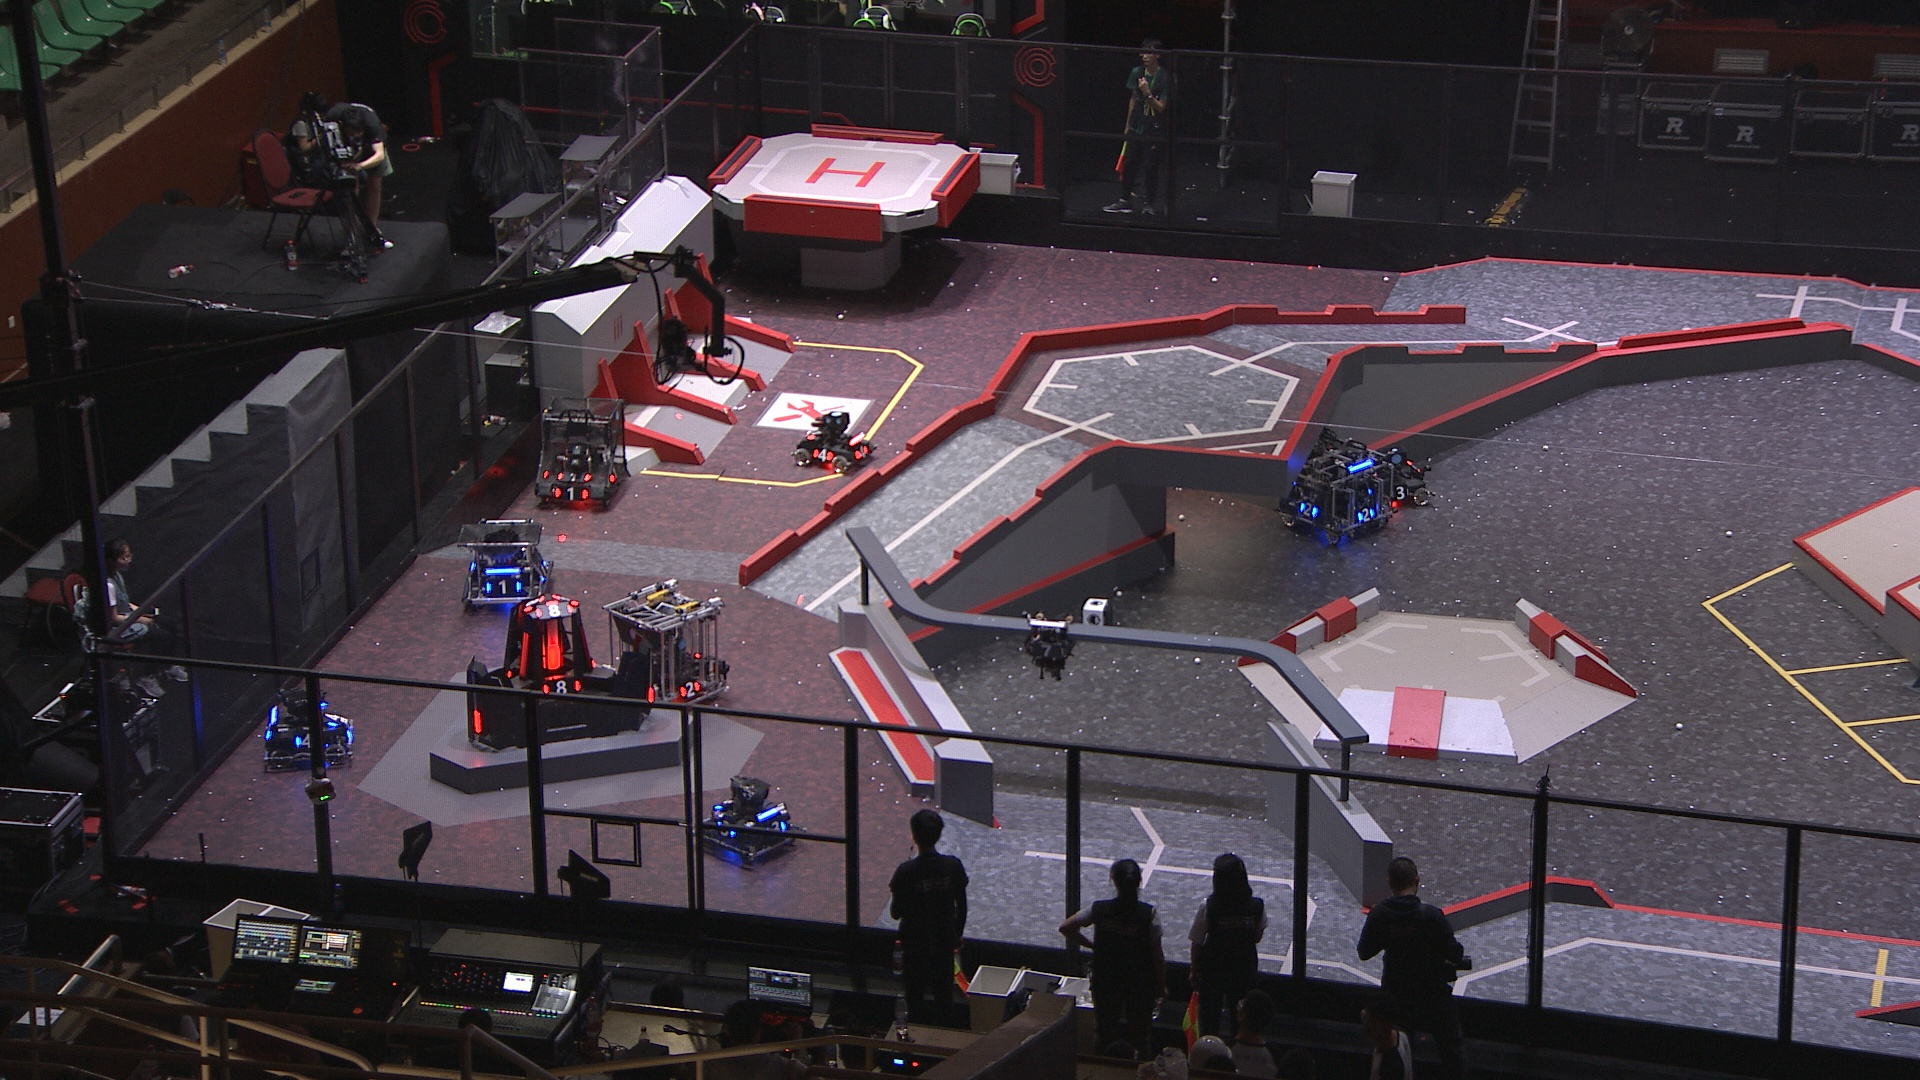armor: (484, 579, 524, 597), (1295, 500, 1325, 522), (1030, 640, 1064, 659), (534, 604, 575, 618), (542, 680, 582, 695), (545, 641, 560, 674), (676, 680, 704, 699), (556, 488, 588, 504), (518, 629, 529, 676), (556, 469, 593, 483), (320, 707, 340, 731), (811, 446, 835, 465), (713, 818, 737, 836), (524, 593, 545, 613), (766, 820, 789, 837), (855, 440, 872, 463), (607, 462, 622, 485), (469, 707, 483, 733), (295, 736, 316, 752), (808, 423, 823, 443), (1390, 487, 1411, 500), (1356, 506, 1371, 524), (719, 796, 735, 811), (538, 560, 549, 582), (645, 687, 655, 704)
base: (465, 589, 659, 750)
car: (607, 578, 731, 708), (1275, 427, 1400, 542), (531, 396, 628, 516), (688, 774, 796, 869), (456, 518, 556, 612), (255, 679, 356, 770), (793, 410, 880, 473), (1361, 444, 1436, 510)
watcher: (1021, 611, 1077, 680)
